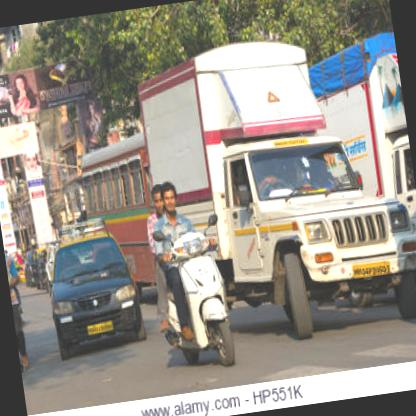bus: (78, 133, 164, 307)
car: (42, 218, 146, 356)
motorcycle: (141, 176, 238, 374)
truck: (131, 20, 415, 361)
